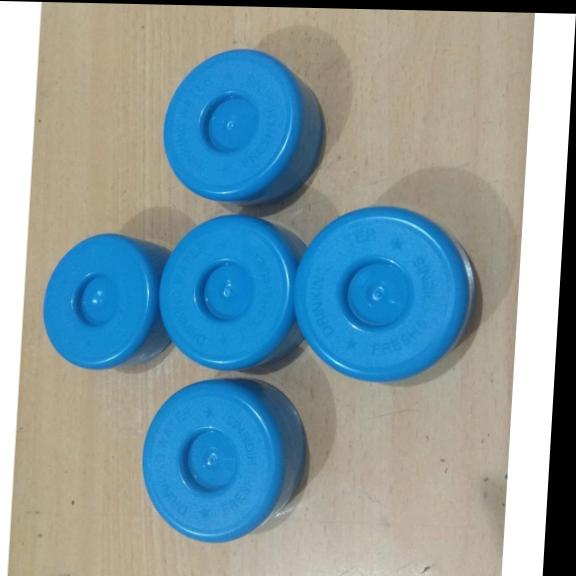Plastik: (295, 204, 481, 384), (143, 374, 310, 543), (163, 46, 327, 207), (159, 213, 308, 373), (43, 232, 172, 370)
